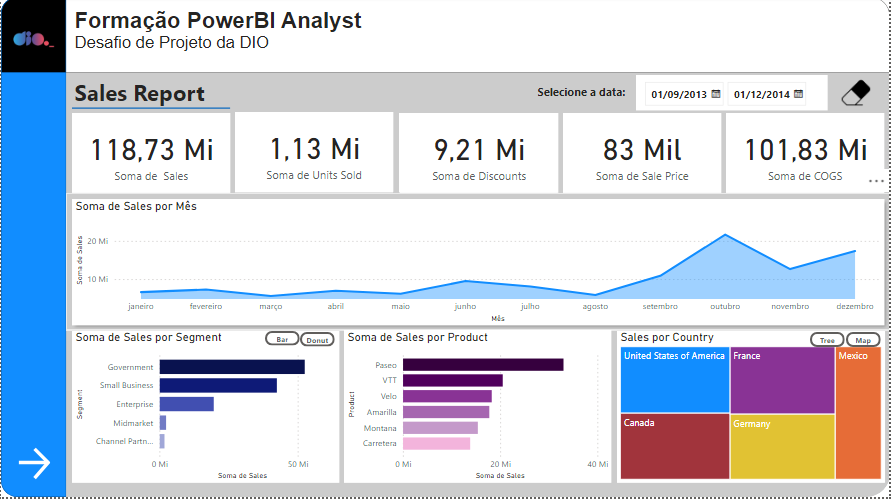

The page's visual inventory and layout, read from the dashboard file:
{"tool":"powerbi","page":{"name":"Sales Report","canvas":[1280,720],"ordinal":0},"visuals":[{"type":"group","id":"g1","title":"Title and Bg","box":[0,0,1281.6,720],"z":0},{"type":"shape","box":[0,0,94,720],"z":0,"group":"g4"},{"type":"shape","box":[0,0,1280,108.8],"z":0,"group":"g2"},{"type":"shape","title":"Background","box":[0,0,1281,720],"z":0,"group":"g1"},{"type":"slicer","fields":{"Values":["financials.Date"]},"box":[914.6,112,276,50.9],"z":0,"group":"g5"},{"type":"shape","box":[102,154,228,12],"z":0,"group":"g9"},{"type":"shape","box":[102,167,228,115],"z":0,"group":"g3"},{"type":"shape","box":[94,282,1186,198],"z":0,"group":"g8"},{"type":"shape","box":[102,480,385,220],"z":0,"group":"g6"},{"type":"shape","box":[494.5,480,385,220],"z":0,"group":"g10"},{"type":"shape","box":[887,480,385,220],"z":0,"group":"g7"},{"type":"shape","box":[0,0,94,109],"z":1000,"group":"g4"},{"type":"group","id":"g2","title":"Titlebar","box":[0,0,1280,108.9],"z":1000,"group":"g1"},{"type":"textbox","box":[101,10,525,85.8],"z":1000,"group":"g2"},{"type":"textbox","box":[101,109,300,54],"z":1000,"group":"g9"},{"type":"textbox","box":[767,120.8,147.6,35.4],"z":1000,"group":"g5"},{"type":"group","id":"g3","title":"Cartões","box":[102,166,1170,116],"z":1000},{"type":"shape","box":[337.2,167,228,115],"z":1000,"group":"g3"},{"type":"lineChart","fields":{"Y":["Sum(financials. Sales)"],"Category":["financials.Date.Variation.Hierarquia de datas.Mês"]},"box":[102,290,1170,182],"z":1000,"group":"g8"},{"type":"clusteredBarChart","fields":{"Y":["Sum(financials. Sales)"],"Category":["financials.Segment"]},"box":[102,480,385,220],"z":1000,"group":"g6"},{"type":"clusteredBarChart","fields":{"Y":["Sum(financials. Sales)"],"Category":["financials.Product"]},"box":[495,480,385,220],"z":1000,"group":"g10"},{"type":"group","id":"g4","title":"Sidebar","box":[0,0,94,720],"z":2000,"group":"g1"},{"type":"image","box":[0,13,94,96],"z":2000,"group":"g4"},{"type":"group","id":"g5","title":"Segmentação","box":[767,112,499,51],"z":2000},{"type":"image","title":"Borracha","box":[1196.4,112.1,68.4,50.9],"z":2000,"group":"g5"},{"type":"shape","box":[573.5,167,228,115],"z":2000,"group":"g3"},{"type":"treemap","title":"Sales por Country","fields":{"Group":["financials.Country"],"Values":["Sum(financials. Sales)"]},"box":[886.7,480,385.6,220],"z":2000,"group":"g7"},{"type":"actionButton","title":"Botão Donut","box":[430.8,482.5,50,21],"z":2250,"group":"g6"},{"type":"actionButton","title":"Botão Barra","box":[380,481.7,50,21],"z":2500,"group":"g6"},{"type":"actionButton","title":"Botão Tree","box":[1164.2,482.5,50,21.7],"z":2500,"group":"g7"},{"type":"actionButton","box":[1196.4,113.2,69.6,49.8],"z":3000,"group":"g5"},{"type":"shape","box":[808.8,167,228,115],"z":3000,"group":"g3"},{"type":"group","id":"g6","title":"Sales per Segment","box":[101.1,480,386.7,220],"z":3000},{"type":"actionButton","title":"Botão Map","box":[1215.9,482.5,50,21.7],"z":3000,"group":"g7"},{"type":"shape","box":[1044,167,228,115],"z":4000,"group":"g3"},{"type":"group","id":"g7","title":"Sales per Country","box":[886.7,479.7,385.7,220.3],"z":4000},{"type":"card","fields":{"Values":["Sum(financials. Sales)"]},"box":[102,167,228,115],"z":5000,"group":"g3"},{"type":"group","id":"g8","title":"Sales por Mês","box":[94,282,1186,198],"z":5000},{"type":"group","id":"g9","title":"Page Title","box":[101,109,300,57],"z":6000},{"type":"card","fields":{"Values":["Sum(financials.Units Sold)"]},"box":[337,166,228,115],"z":6000,"group":"g3"},{"type":"card","fields":{"Values":["Sum(financials.Discounts)"]},"box":[574,167,228,115],"z":7000,"group":"g3"},{"type":"group","id":"g10","title":"Sales per Product","box":[494.5,480,385.5,220],"z":7000},{"type":"actionButton","box":[18.8,643.8,57.5,56.2],"z":7001,"group":"g1"},{"type":"card","fields":{"Values":["Sum(financials.Sale Price)"]},"box":[809,167,228,115],"z":8000,"group":"g3"},{"type":"card","fields":{"Values":["Sum(financials.COGS)"]},"box":[1044,167,228,115],"z":9000,"group":"g3"}]}

Visuals, with their boxes on the page's 1280x720 design canvas (x1, y1, x2, y2). These are canvas units, not pixel positions in the 893x501 screenshot, which may show the page scaled, cropped or inside an application window:
"Title and Bg" group: Rect(0, 0, 1282, 720)
shape: Rect(0, 0, 94, 720)
shape: Rect(0, 0, 1280, 109)
"Background" shape: Rect(0, 0, 1281, 720)
slicer - financials.Date: Rect(915, 112, 1191, 163)
shape: Rect(102, 154, 330, 166)
shape: Rect(102, 167, 330, 282)
shape: Rect(94, 282, 1280, 480)
shape: Rect(102, 480, 487, 700)
shape: Rect(494, 480, 880, 700)
shape: Rect(887, 480, 1272, 700)
shape: Rect(0, 0, 94, 109)
"Titlebar" group: Rect(0, 0, 1280, 109)
textbox: Rect(101, 10, 626, 96)
textbox: Rect(101, 109, 401, 163)
textbox: Rect(767, 121, 915, 156)
"Cartões" group: Rect(102, 166, 1272, 282)
shape: Rect(337, 167, 565, 282)
lineChart - Sum(financials. Sales) x financials.Date.Variation.Hierarquia de datas.Mês: Rect(102, 290, 1272, 472)
clusteredBarChart - Sum(financials. Sales) x financials.Segment: Rect(102, 480, 487, 700)
clusteredBarChart - Sum(financials. Sales) x financials.Product: Rect(495, 480, 880, 700)
"Sidebar" group: Rect(0, 0, 94, 720)
image: Rect(0, 13, 94, 109)
"Segmentação" group: Rect(767, 112, 1266, 163)
"Borracha" image: Rect(1196, 112, 1265, 163)
shape: Rect(574, 167, 802, 282)
"Sales por Country" treemap: Rect(887, 480, 1272, 700)
"Botão Donut" actionButton: Rect(431, 482, 481, 504)
"Botão Barra" actionButton: Rect(380, 482, 430, 503)
"Botão Tree" actionButton: Rect(1164, 482, 1214, 504)
actionButton: Rect(1196, 113, 1266, 163)
shape: Rect(809, 167, 1037, 282)
"Sales per Segment" group: Rect(101, 480, 488, 700)
"Botão Map" actionButton: Rect(1216, 482, 1266, 504)
shape: Rect(1044, 167, 1272, 282)
"Sales per Country" group: Rect(887, 480, 1272, 700)
card - Sum(financials. Sales): Rect(102, 167, 330, 282)
"Sales por Mês" group: Rect(94, 282, 1280, 480)
"Page Title" group: Rect(101, 109, 401, 166)
card - Sum(financials.Units Sold): Rect(337, 166, 565, 281)
card - Sum(financials.Discounts): Rect(574, 167, 802, 282)
"Sales per Product" group: Rect(494, 480, 880, 700)
actionButton: Rect(19, 644, 76, 700)
card - Sum(financials.Sale Price): Rect(809, 167, 1037, 282)
card - Sum(financials.COGS): Rect(1044, 167, 1272, 282)
